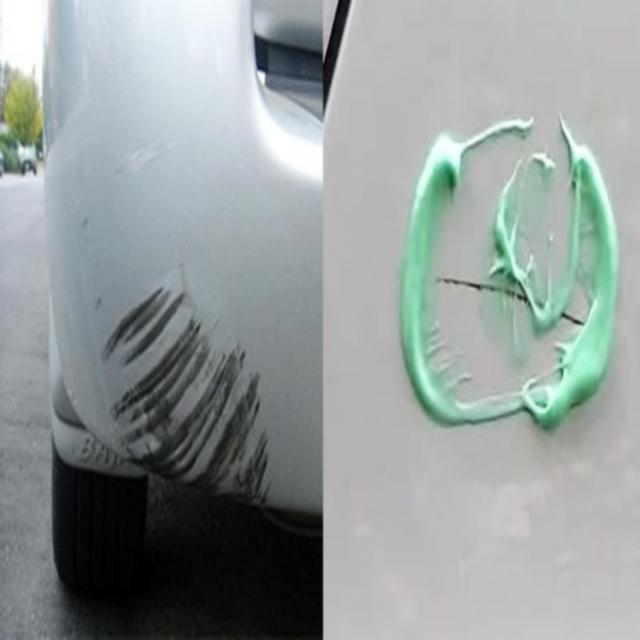rear-bumper-dent: (34, 6, 314, 550)
